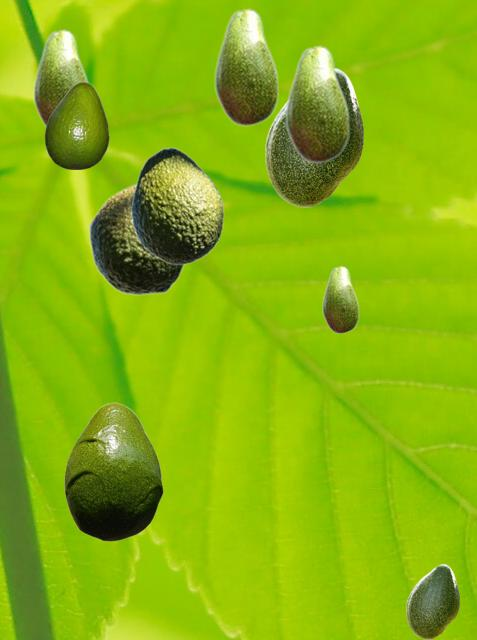avocado: (64, 402, 162, 540), (265, 68, 362, 206), (88, 181, 186, 294), (130, 147, 223, 264), (214, 7, 278, 126), (285, 44, 349, 163), (33, 28, 90, 126), (44, 81, 108, 168), (406, 564, 458, 638), (322, 265, 358, 333)
